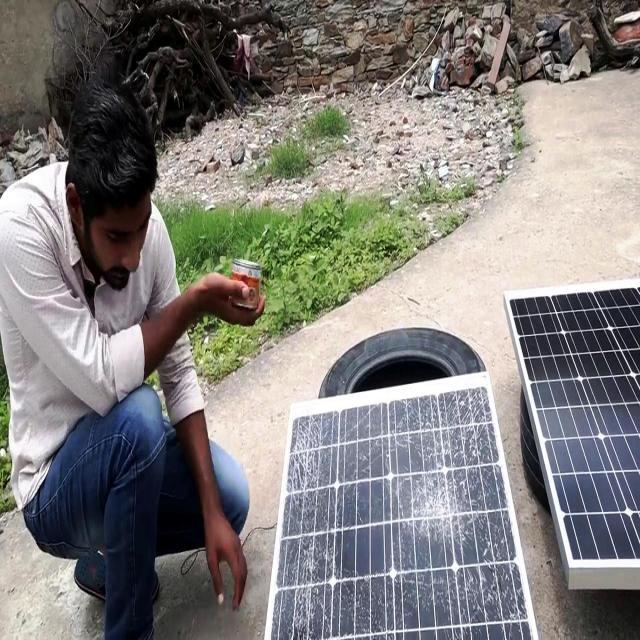faulty: (269, 384, 532, 640)
no faulty: (509, 284, 640, 566)
